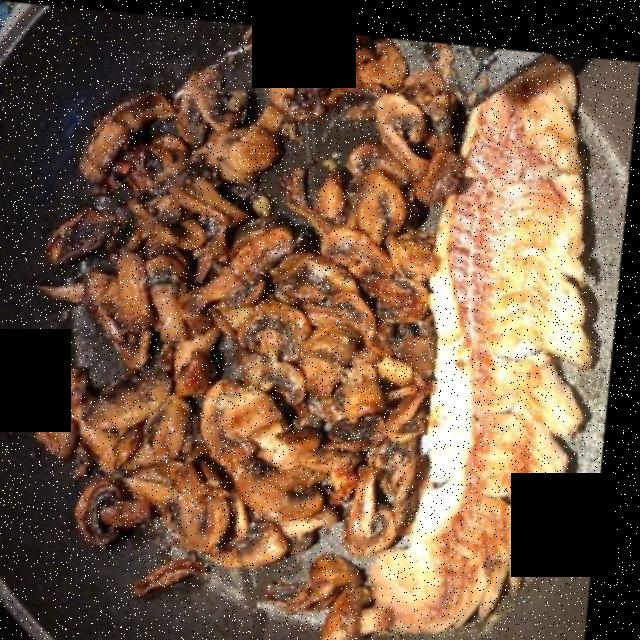fish: (389, 50, 623, 615)
mushrooms: (37, 38, 472, 635)
